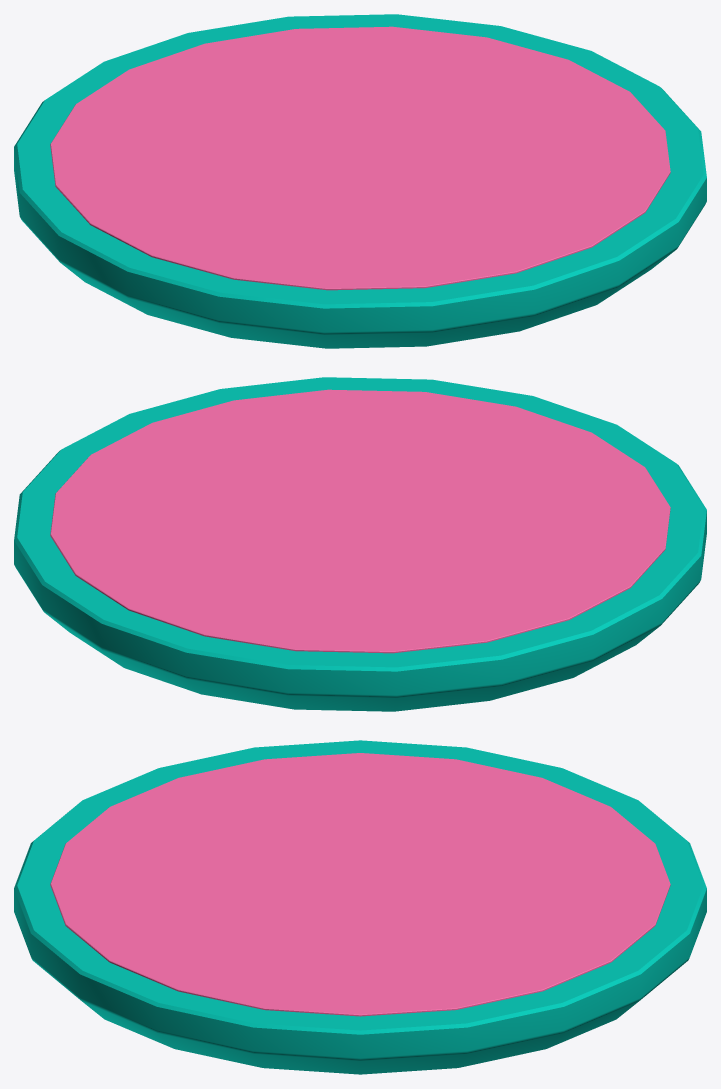
The model's file is PLF0110040.fbx.
3 renders of one model, top to bottom at view 1: azimuth 30°, elevation 25°; view 2: azimuth 150°, elevation 25°; view 3: azimuth 270°, elevation 25°, orthographic.
Parts seen in each view (by area): view 1: smPLF0110040; view 2: smPLF0110040; view 3: smPLF0110040.
Part boxes in pixels (bbox=[...]): smPLF0110040: bbox=[14, 14, 706, 348]; smPLF0110040: bbox=[14, 377, 706, 711]; smPLF0110040: bbox=[14, 740, 706, 1074].
Size of the model in its own units: 495 by 46.23 by 495.
1 material, 1 textured.
